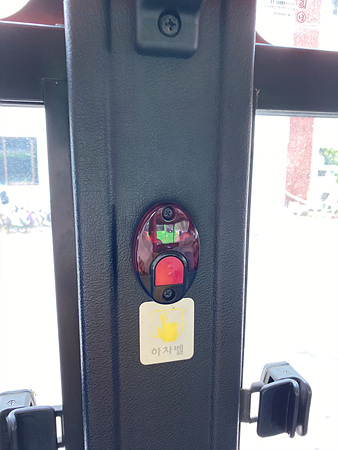bell: (133, 202, 201, 303)
